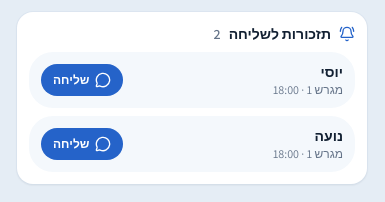
Scenario: DueReminders › disables only the reminder currently being sent
What coordinates should you click on to do the following:
click the button "שליחה" in the row of "יוסי"
I would click on:
 (82, 80)
Its box is [41,64,123,96].
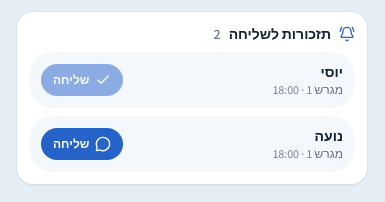
expect the button "שליחה" in the row of "נועה" is enabled: met, box [41,128,123,160]
expect the button "שליחה" in the row of "יוסי" is disabled: met, box [41,64,123,96]
